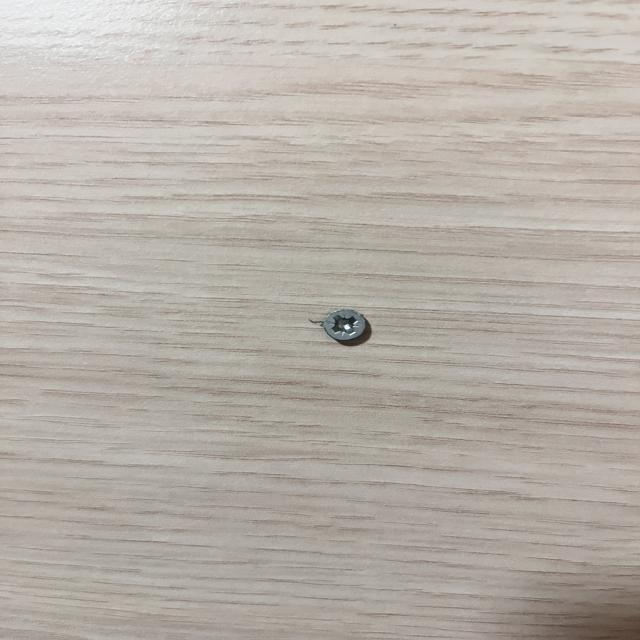pozidriv: (324, 309, 366, 342)
